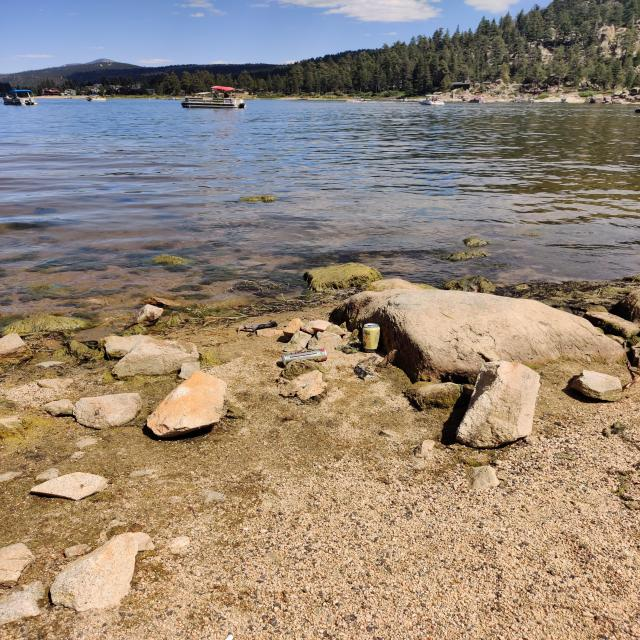litter: (277, 323, 383, 371)
